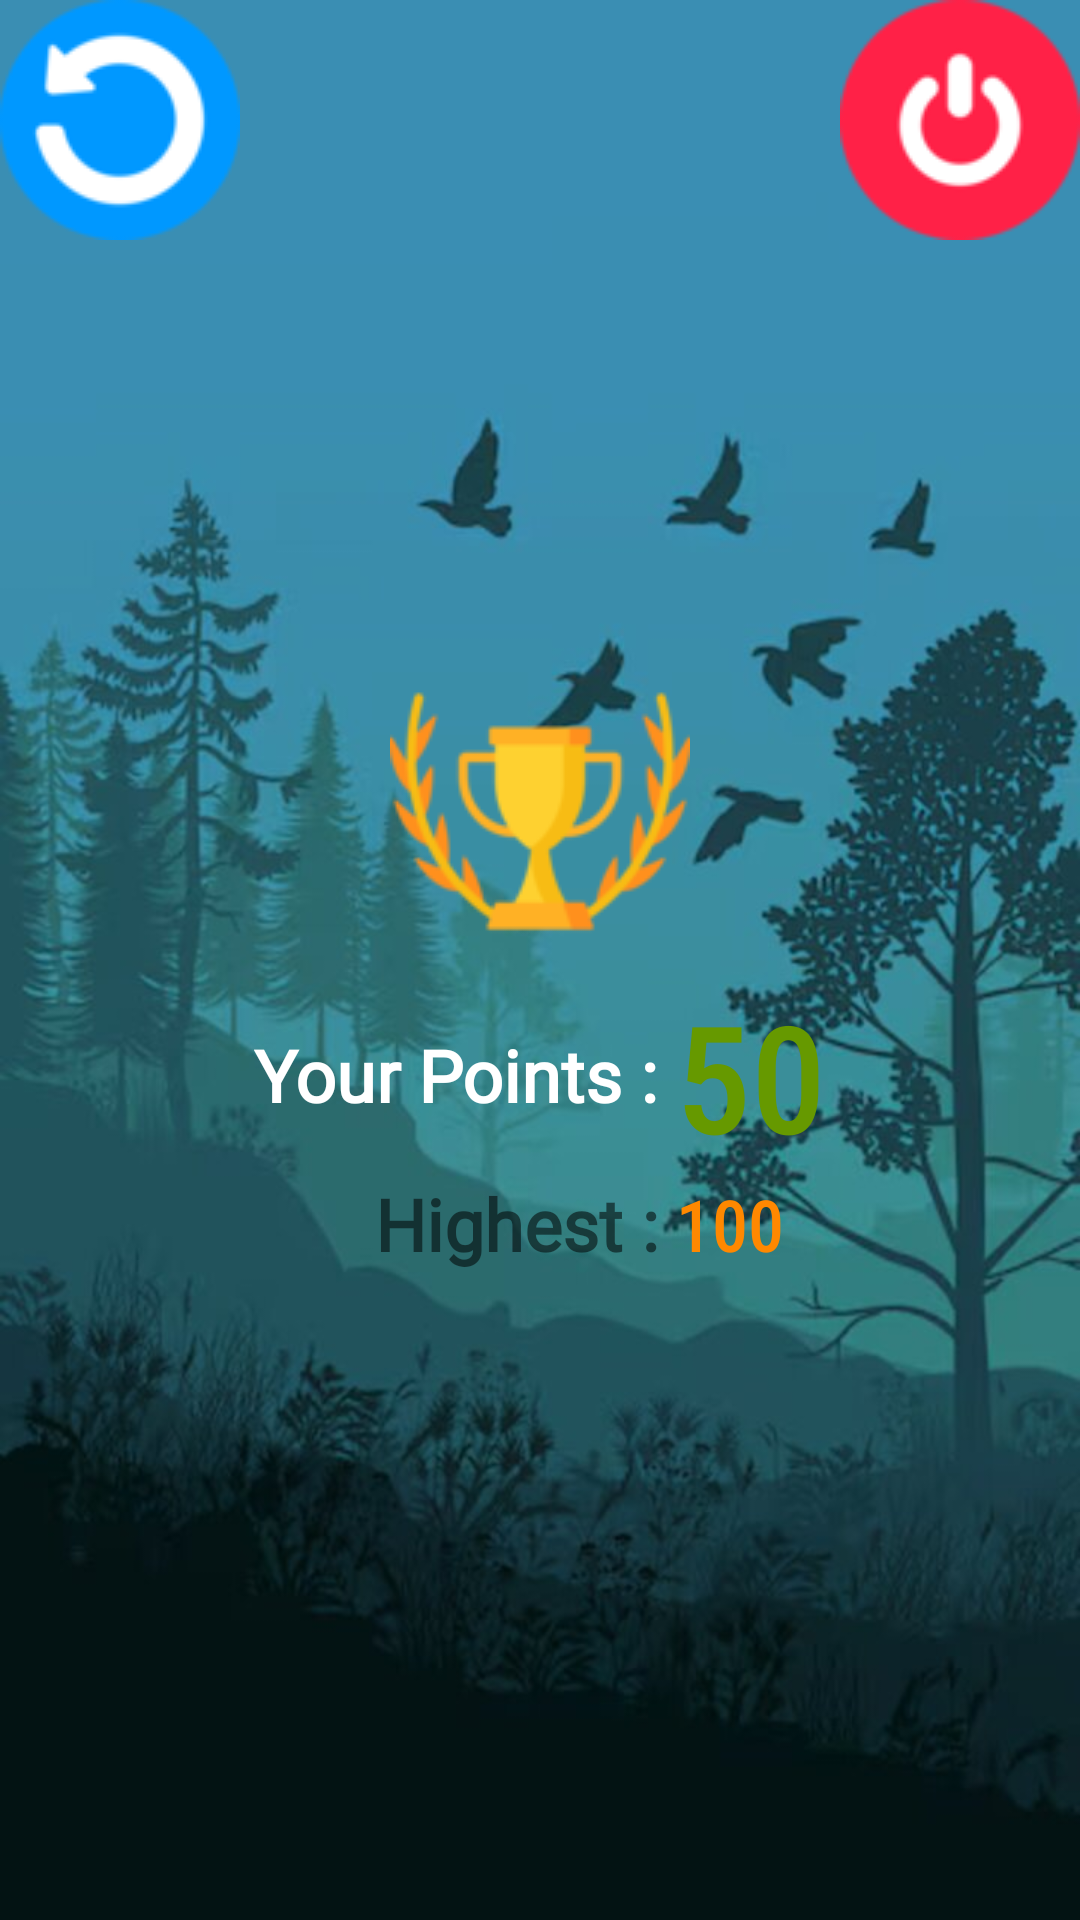

Icon bounding boxes for this 1080px×1920px phone screenshot, format (x1, y1, x2, y2):
exit: (840, 0, 1080, 240)
highest: (390, 648, 690, 975)
restart: (0, 0, 240, 240)
